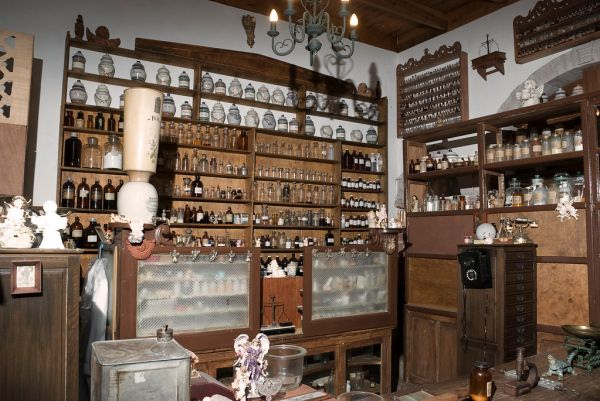unknown_bottle: (469, 361, 496, 401), (76, 178, 90, 209), (62, 177, 76, 208), (90, 180, 103, 210), (104, 179, 116, 210)
